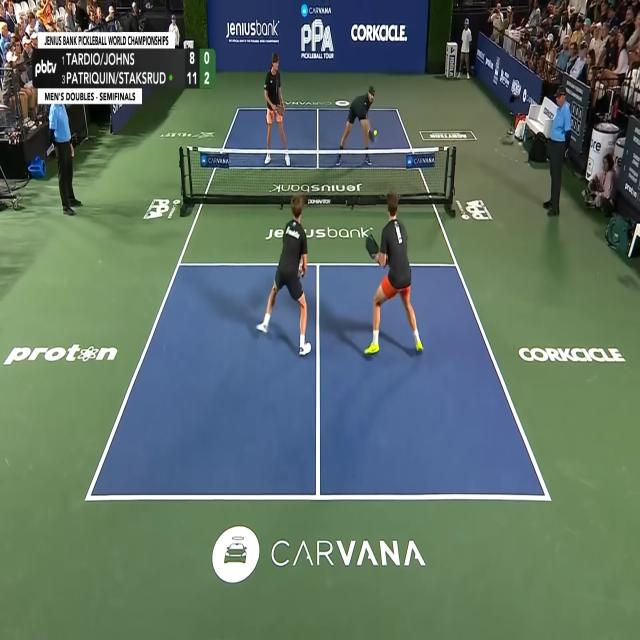ball: (373, 128, 378, 137)
